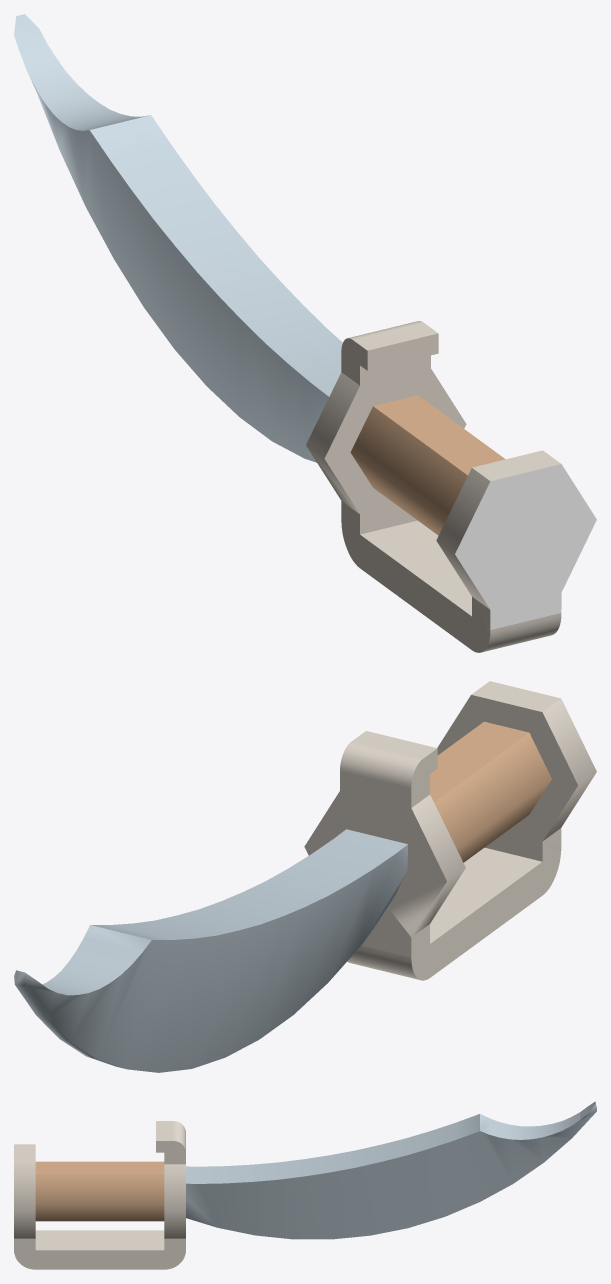
File: scimitar.glb
The picture shows the model from 3 angles, top to bottom: view 1: azimuth 30°, elevation 25°; view 2: azimuth 150°, elevation 25°; view 3: azimuth 270°, elevation 25°; orthographic projection. The views are drawn at different scales.
Parts seen in each view (by area): view 1: sword_scimitar; view 2: sword_scimitar; view 3: sword_scimitar.
Boxes of the visible parts, box(x1,y1,x2,y2) form: sword_scimitar: box(14, 14, 596, 652); sword_scimitar: box(14, 681, 596, 1072); sword_scimitar: box(14, 1101, 596, 1269).
Size of the model in its own units: 0.11 by 0.201 by 0.6779.
